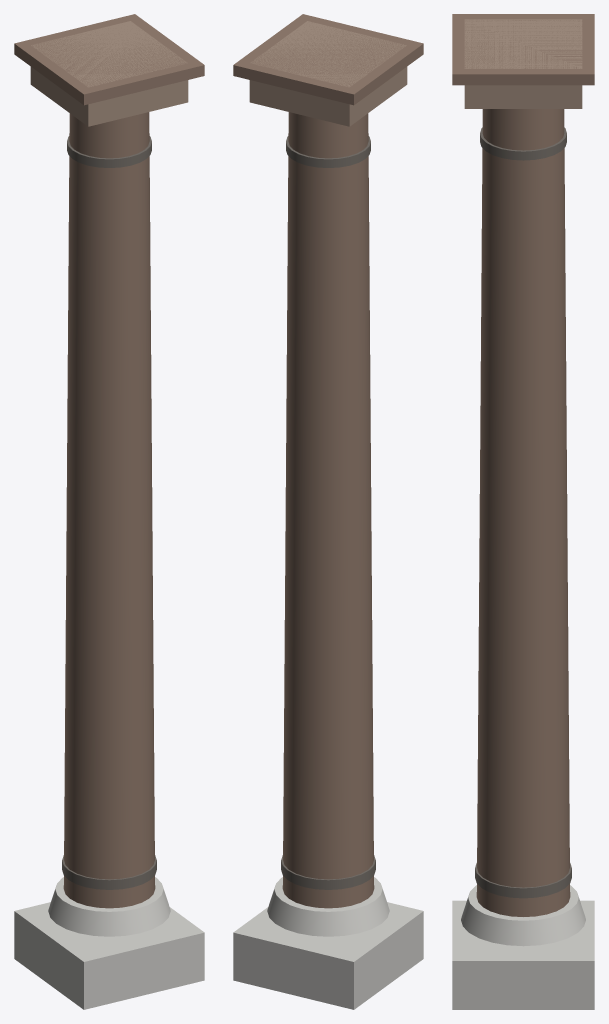
Rendered from column.glb.
3 views of the same model, side by side, from view 1: azimuth 30°, elevation 25°; view 2: azimuth 150°, elevation 25°; view 3: azimuth 270°, elevation 25° (orthographic). The views are drawn at different scales.
Visible parts, largest first — view 1: timber-shaft, stone-base, timber-capital, capital-top-plate, base-roll, lower-iron-band, upper-iron-band; view 2: timber-shaft, stone-base, capital-top-plate, timber-capital, base-roll, lower-iron-band, upper-iron-band; view 3: timber-shaft, stone-base, timber-capital, capital-top-plate, base-roll, lower-iron-band, upper-iron-band.
Part boxes in pixels (x1,y1,x2,y2): timber-shaft: [63, 112, 155, 908]; stone-base: [14, 902, 204, 1009]; timber-capital: [30, 21, 188, 126]; capital-top-plate: [14, 14, 204, 105]; base-roll: [48, 877, 170, 936]; lower-iron-band: [62, 855, 156, 889]; upper-iron-band: [67, 136, 151, 167]; timber-shaft: [282, 112, 374, 908]; stone-base: [233, 902, 423, 1009]; capital-top-plate: [233, 14, 423, 105]; timber-capital: [249, 21, 407, 126]; base-roll: [267, 877, 389, 936]; lower-iron-band: [281, 855, 375, 889]; upper-iron-band: [286, 136, 370, 167]; timber-shaft: [476, 109, 570, 916]; stone-base: [452, 900, 594, 1009]; timber-capital: [464, 19, 582, 108]; capital-top-plate: [452, 14, 594, 85]; base-roll: [461, 885, 585, 946]; lower-iron-band: [475, 863, 571, 898]; upper-iron-band: [480, 127, 566, 160].
Bounding box in the file's own units: 0.58 × 4.2 × 0.58.
